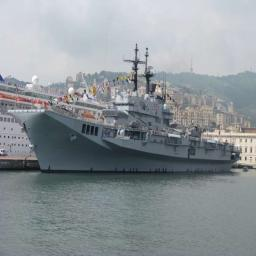Portanaves: (6, 44, 242, 176)
